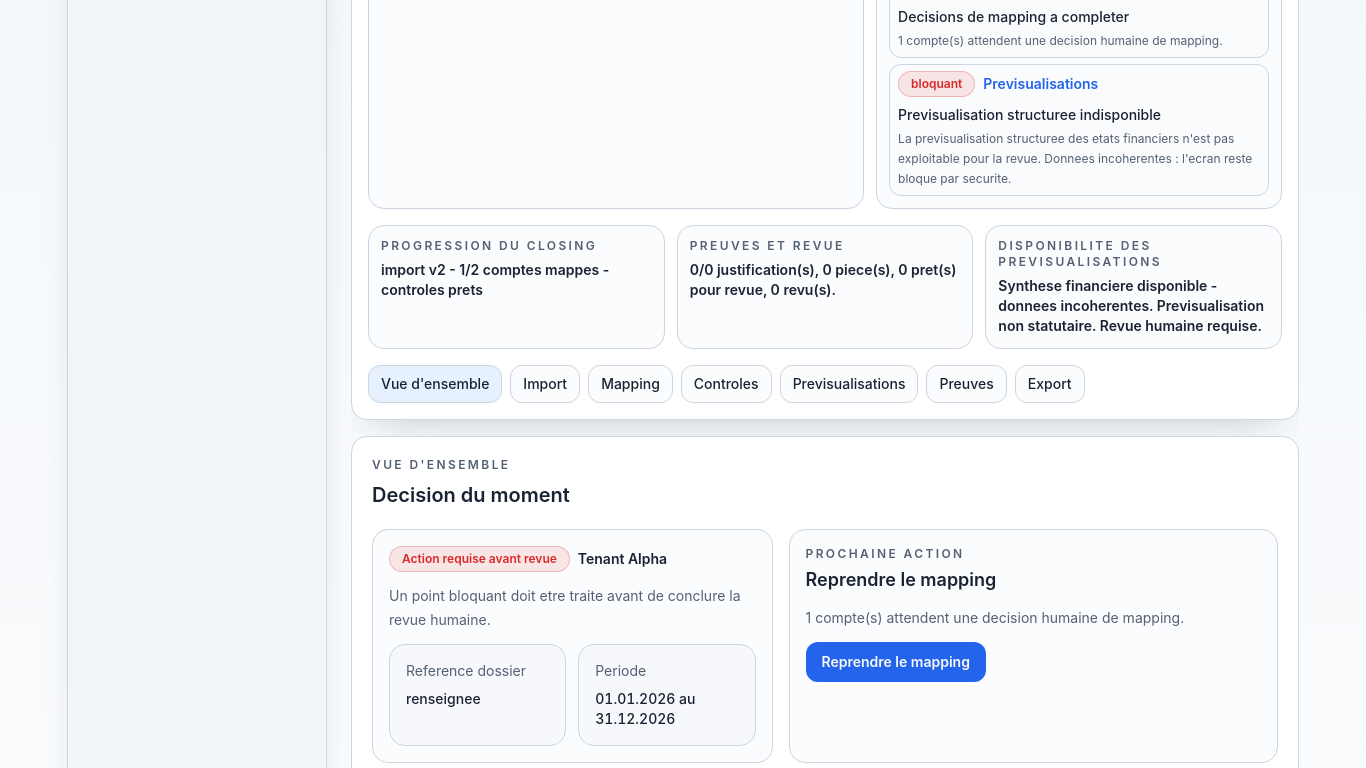
Test case: router workpapers smoke › keeps Workpapers after Etats financiers structures and preserves the initial request scope
(page scrolled)
expect the tab "Previsualisations" is shown: met, box [780,365,918,403]
Click the tab "Preuves": point(967, 384) [926,365,1007,403]
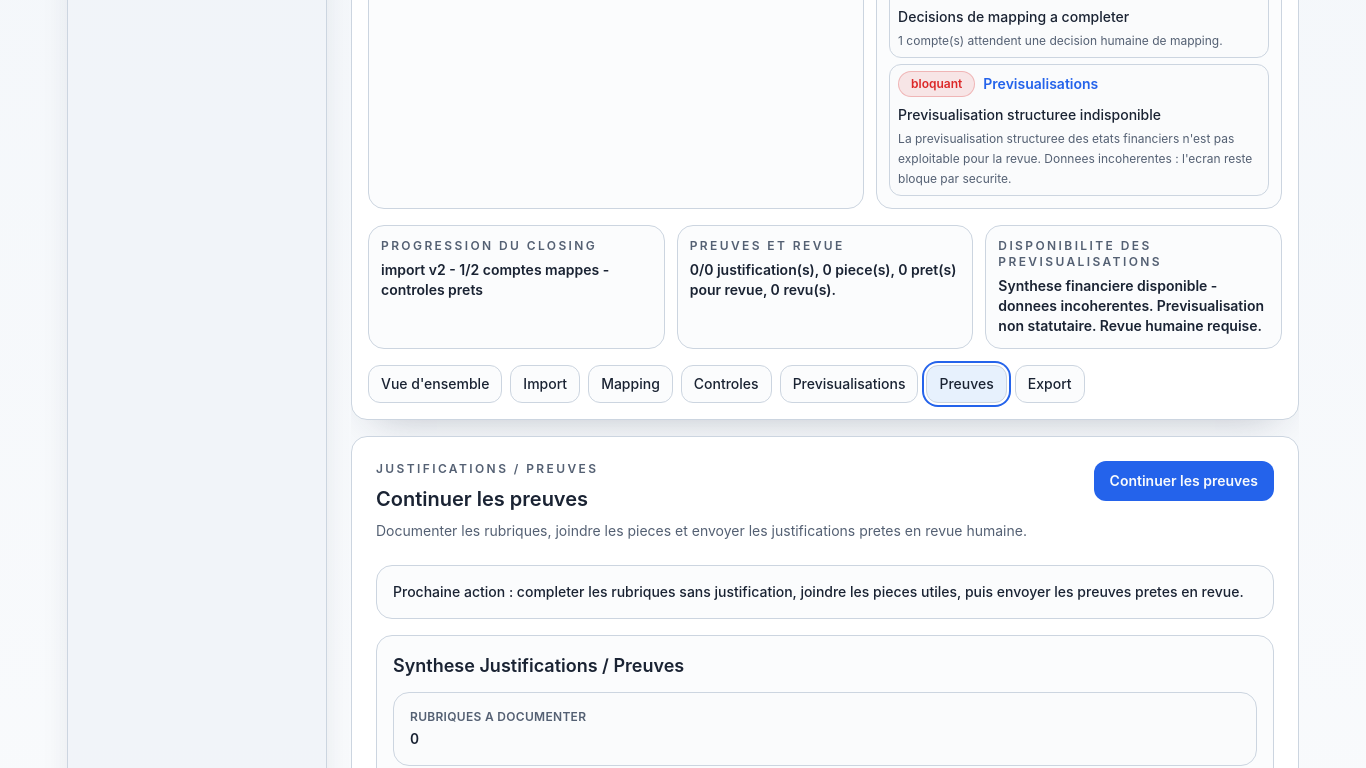
expect the heading "Continuer les preuves" is shown: met, box [376,487,588,511]
expect the text "Justifications / Preuves" is shown: met, box [376,461,598,476]
